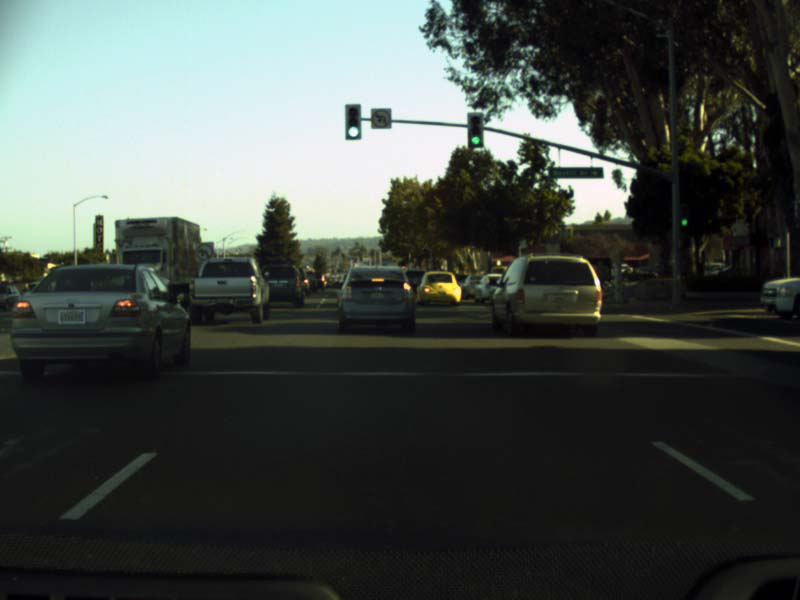Green: (467, 113, 482, 146), (346, 105, 359, 138), (680, 206, 688, 226)
